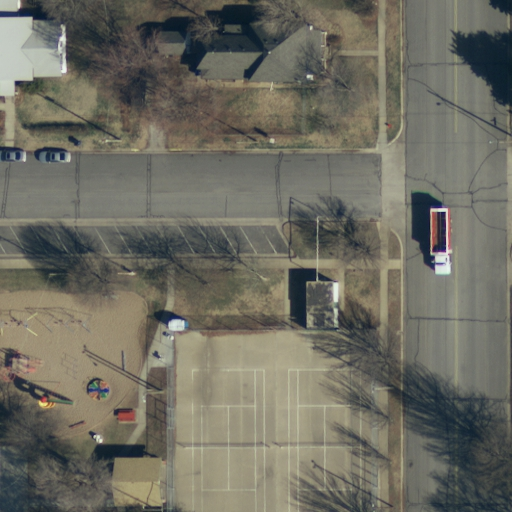DT: (98, 129, 132, 153), (138, 384, 167, 404), (233, 133, 261, 153)
